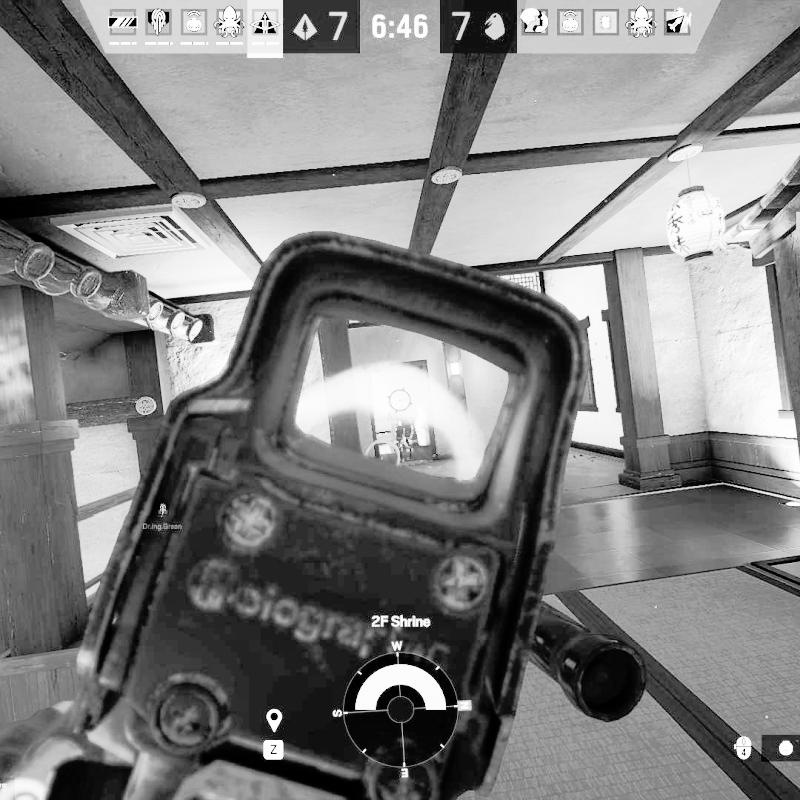Character: (391, 389, 418, 466)
Friend_label: (142, 503, 183, 532)
